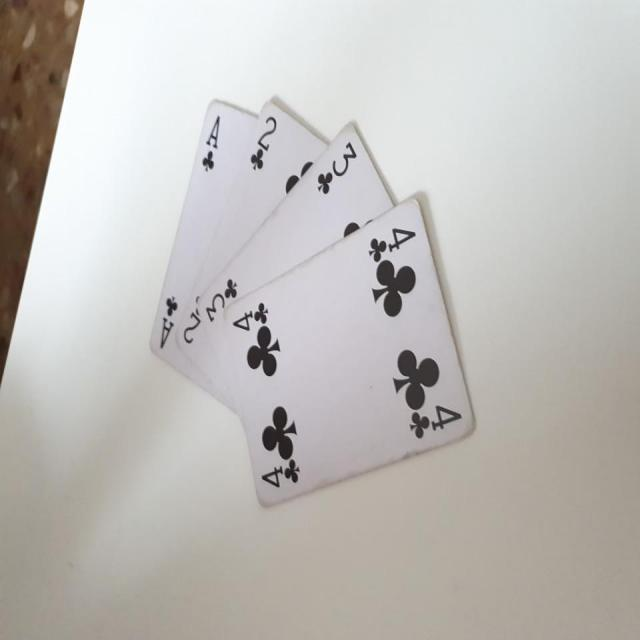2 Trefoils: (173, 98, 328, 413)
3 Trefoils: (197, 121, 396, 430)
4 Trefoils: (223, 196, 480, 508)
A Trefoils: (146, 98, 259, 413)
